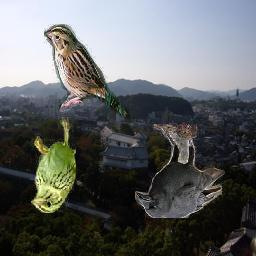Crow: (135, 124, 225, 218)
Sparrow: (44, 25, 138, 124), (32, 117, 77, 213)
